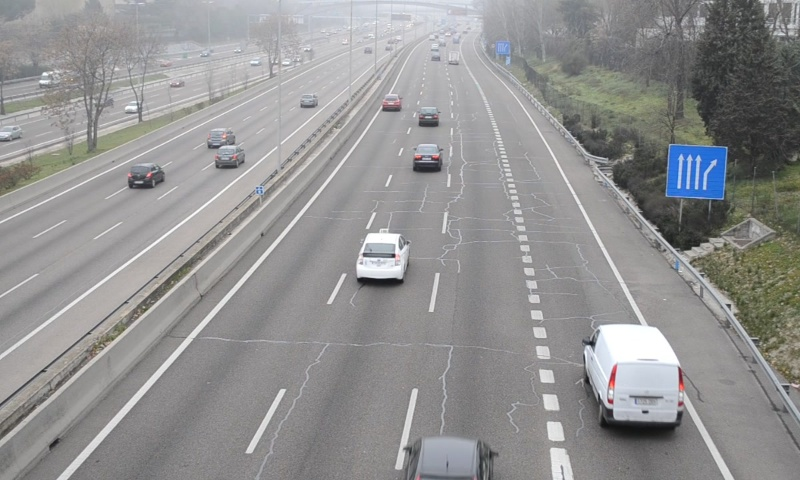car: (356, 234, 408, 278), (412, 143, 442, 170), (380, 93, 400, 112), (418, 106, 438, 124)
van: (582, 324, 682, 430)
